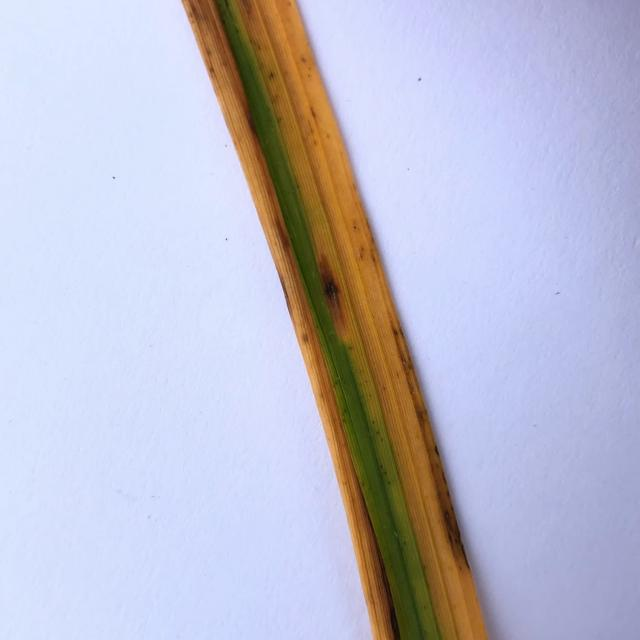tungro: (170, 0, 510, 640)
